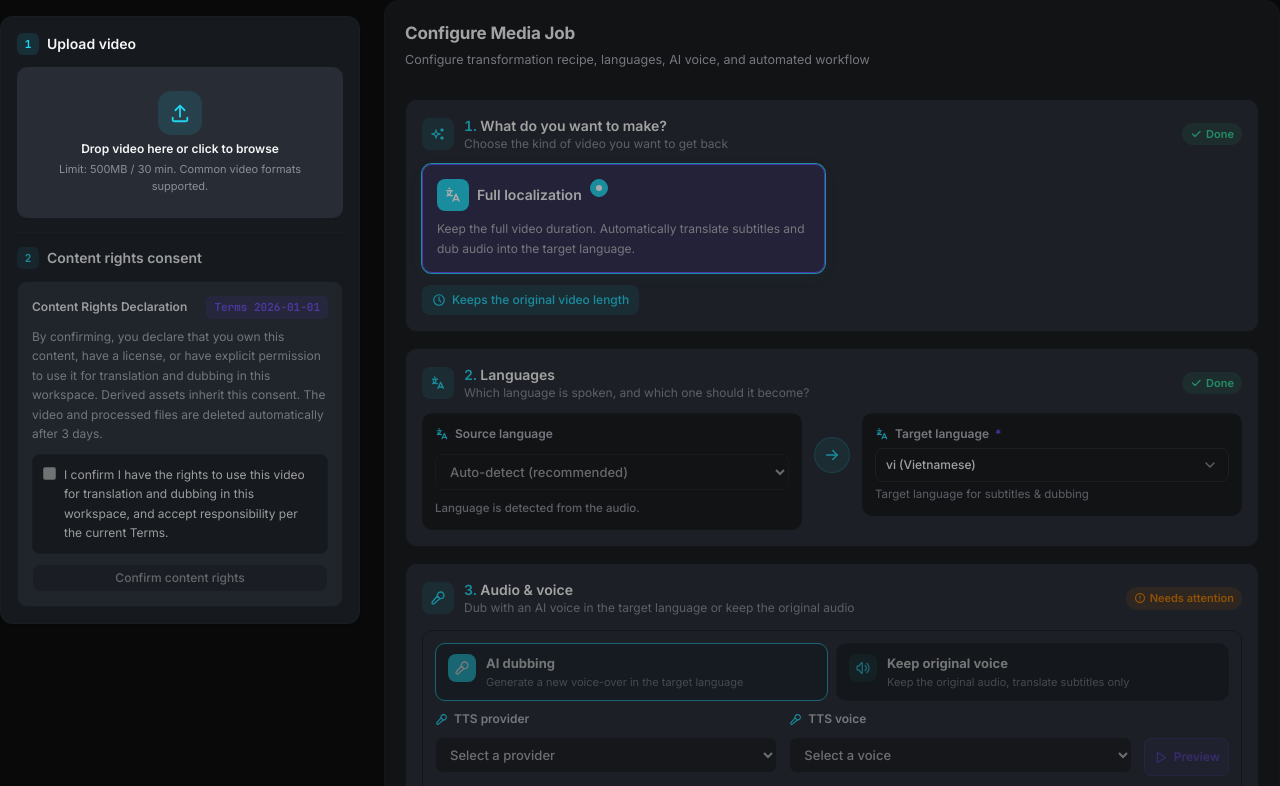
Test: UploadConsentPanel — staged multi-file upload card › toggles target dropdown, removes targets via chip remove button, and closes on Escape
The width and height of the screenshot is (1280, 786).
Click the button with test id "target-dropdown-trigger" at (931, 464), box [875,448,1229,482]
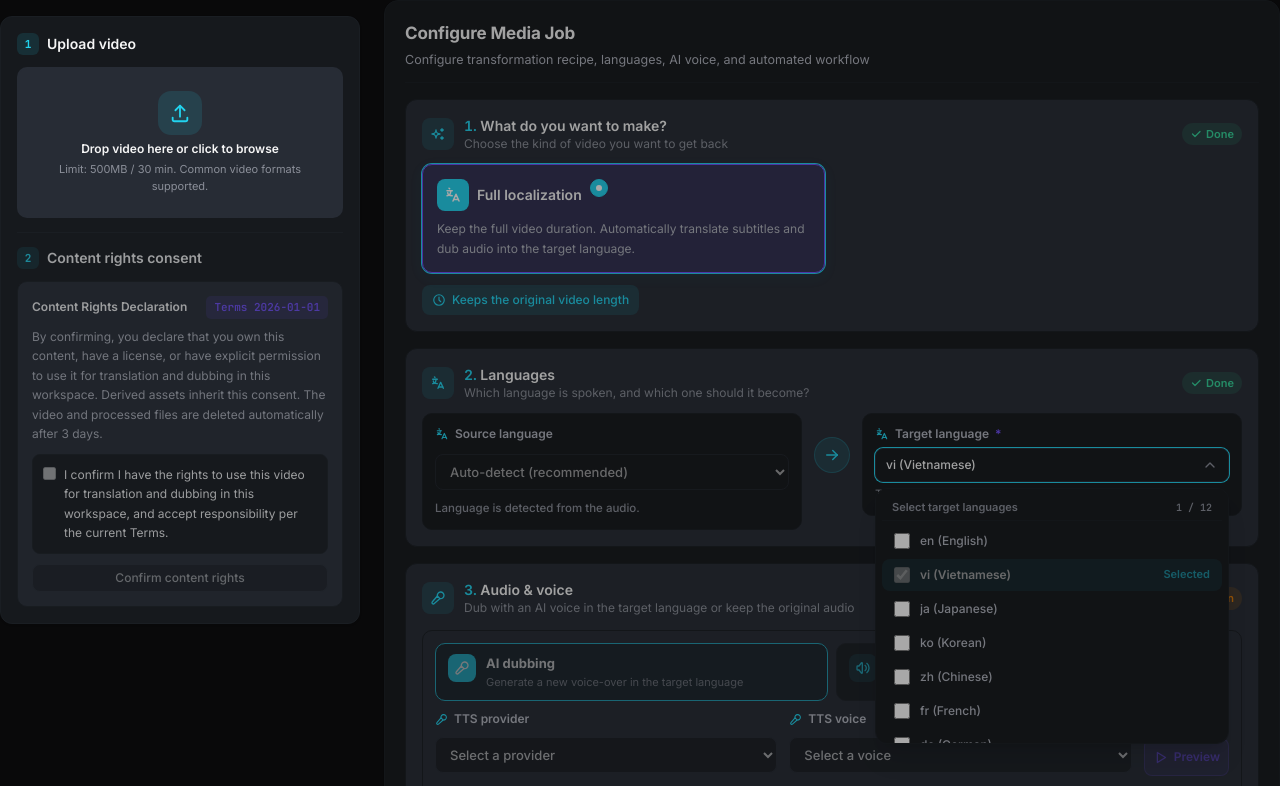
Result: the button with test id "target-dropdown-trigger" is expanded at [875,448,1229,482]
Click the checkbox with test id "target-check-en" at (902, 540), box [894,532,910,548]
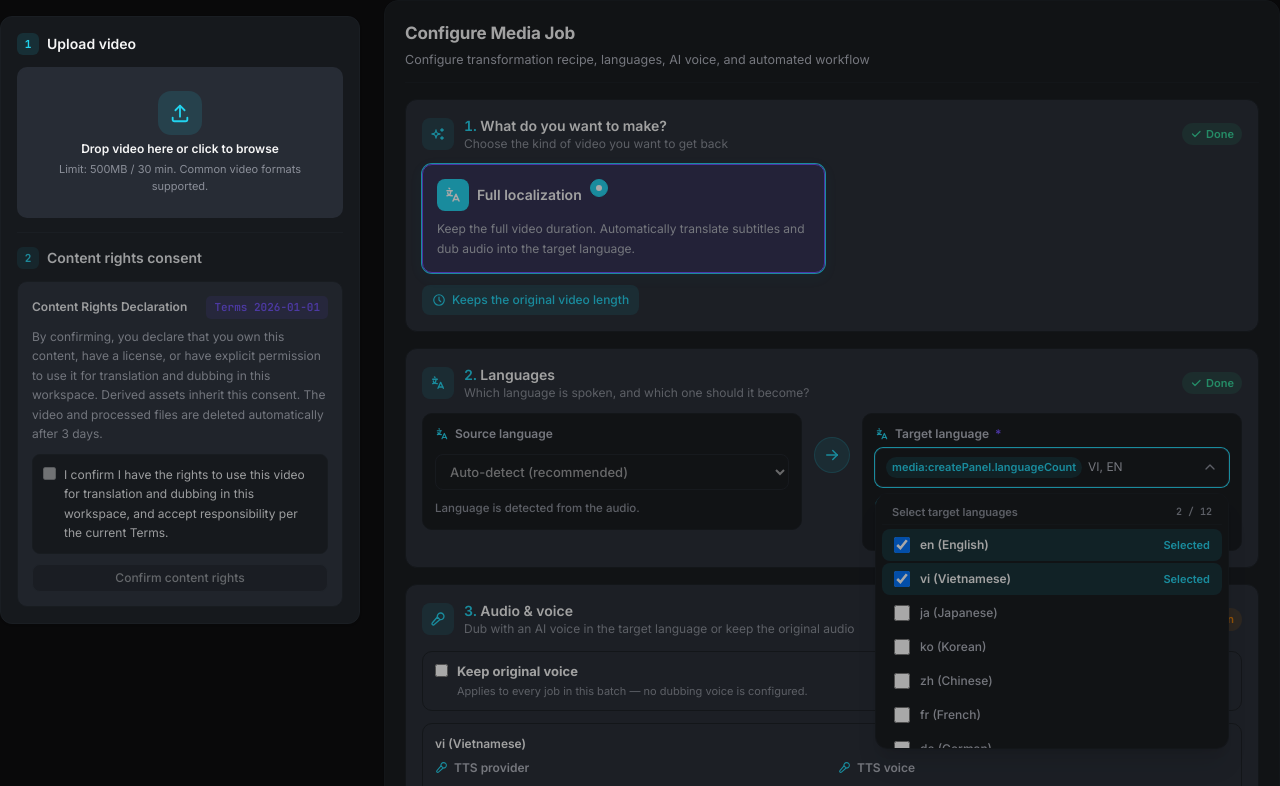
Result: the checkbox with test id "target-check-en" is checked at [894,537,910,553]
Result: the element with test id "selected-target-chips" is shown at [875,494,1106,517]
Press Escape
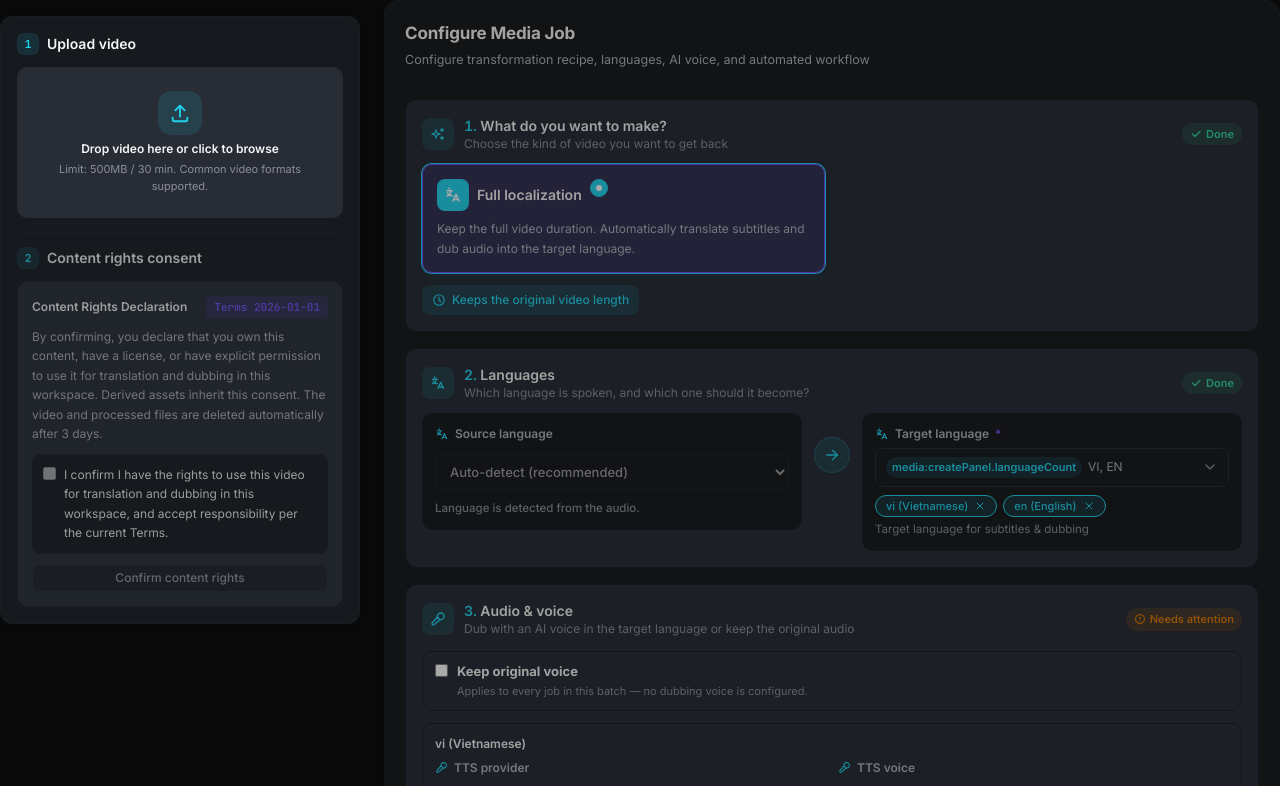
Result: the button with test id "target-dropdown-trigger" is collapsed at [875,448,1229,486]
Click the button named "remove en" at (1088, 506), box [1082,500,1094,512]
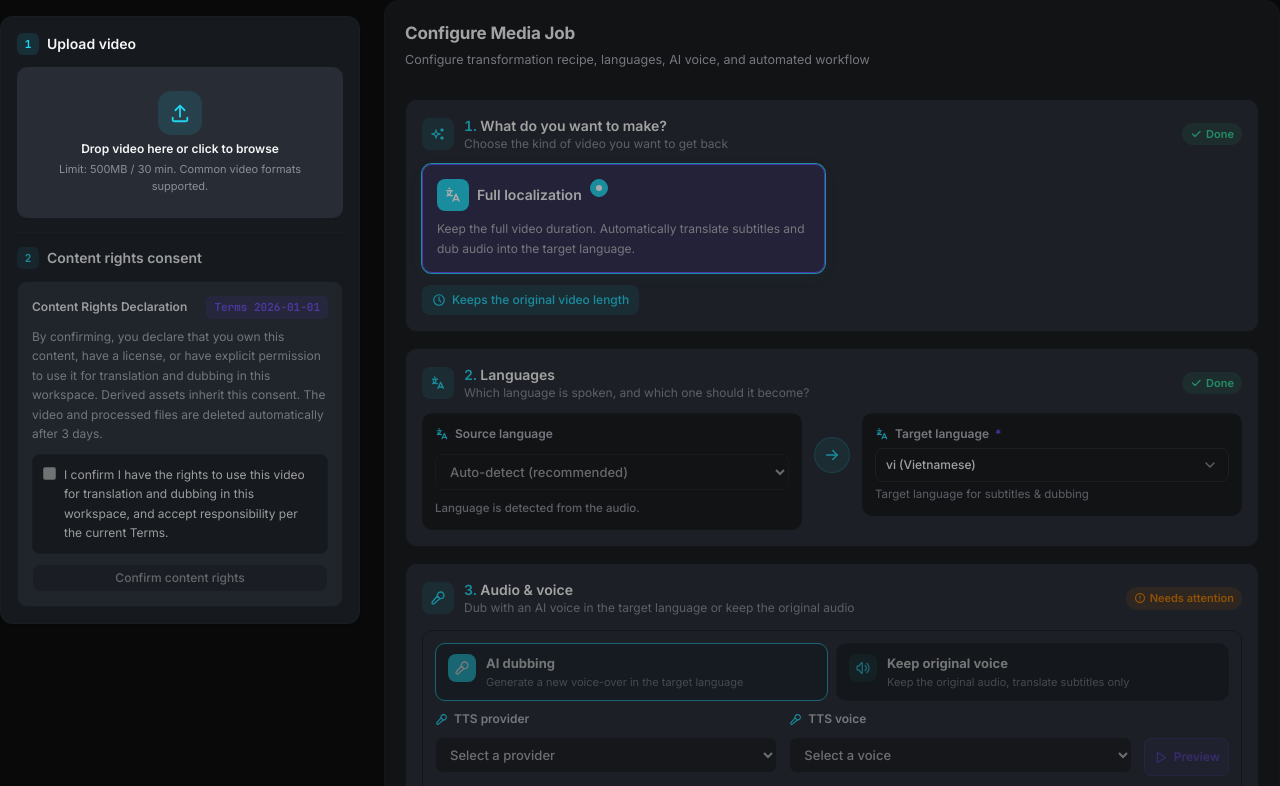
Result: the element with test id "selected-target-chips" is gone
